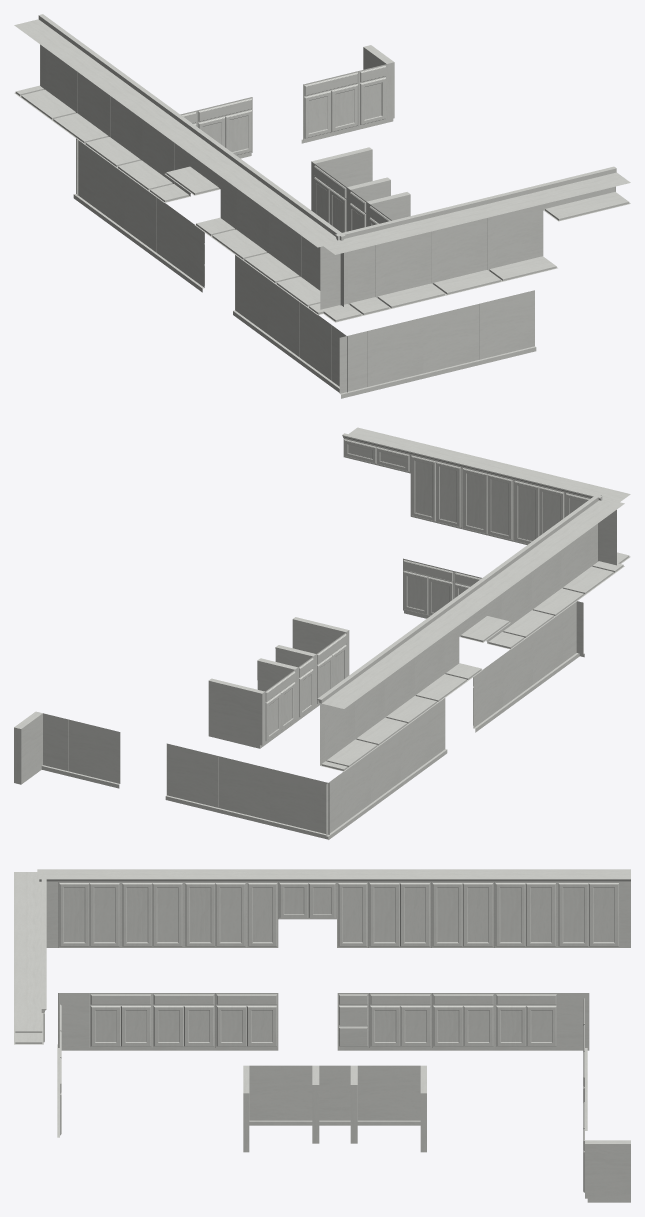
Rendered from 2345_kitchen_cabinets_linen.gltf.
The picture shows the model from 3 angles, top to bottom: view 1: azimuth 30°, elevation 25°; view 2: azimuth 150°, elevation 25°; view 3: azimuth 270°, elevation 25°; orthographic projection. The views are drawn at different scales.
Visible parts, largest first — view 1: Line23325; view 2: Line23325; view 3: Line23325.
Part boxes in pixels (left/top/right/bottom): Line23325: left=14, top=14, right=630, bottom=398; Line23325: left=14, top=427, right=630, bottom=839; Line23325: left=14, top=869, right=630, bottom=1202.
Bounding box in the file's own units: 6.4 × 2.93 × 9.8.
Materials: 1 (1 with a texture image).
